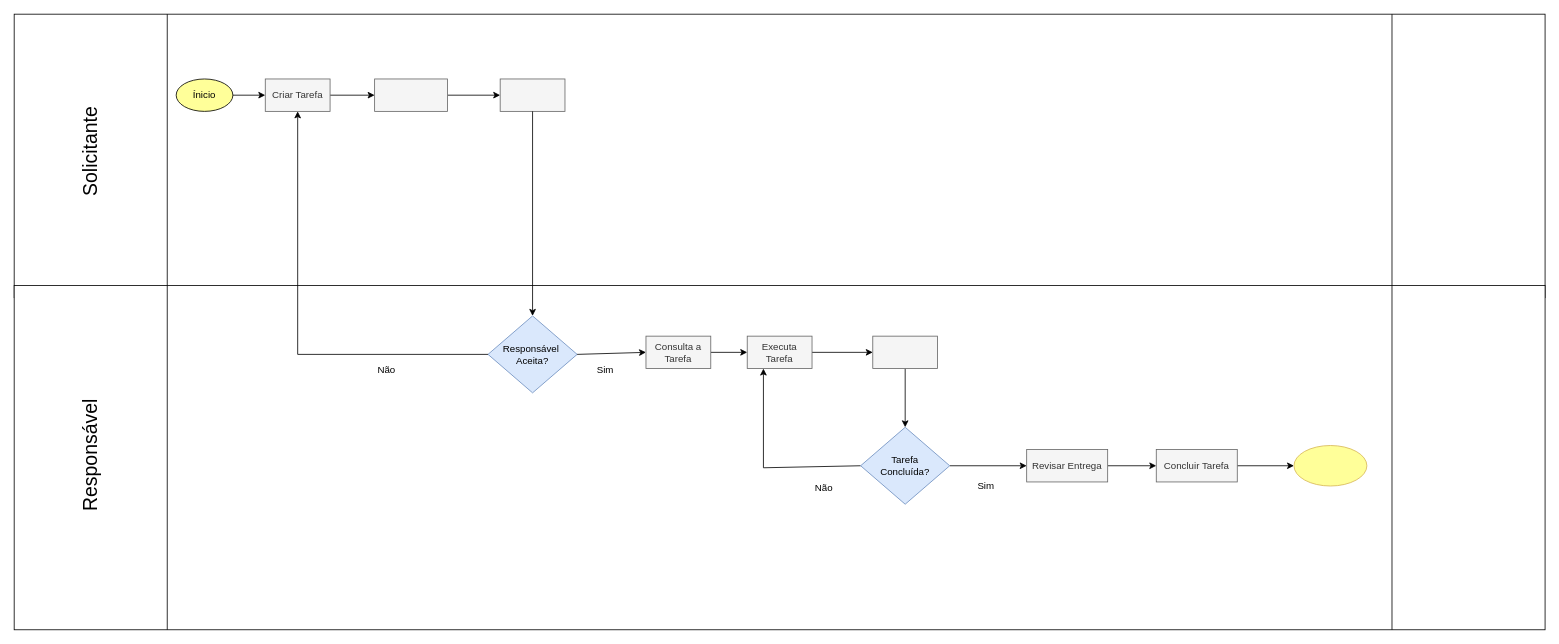
Some shapes in this 1559 by 644 pixel diagram are drawn without their labels. Here are the shapes that lost their labels. From the top down, the centre of each, then its label:
(411,94): Definir Responsável
(532,94): Notificar Responsável
(905,352): Atualizar Status
(1330,465): Fim
